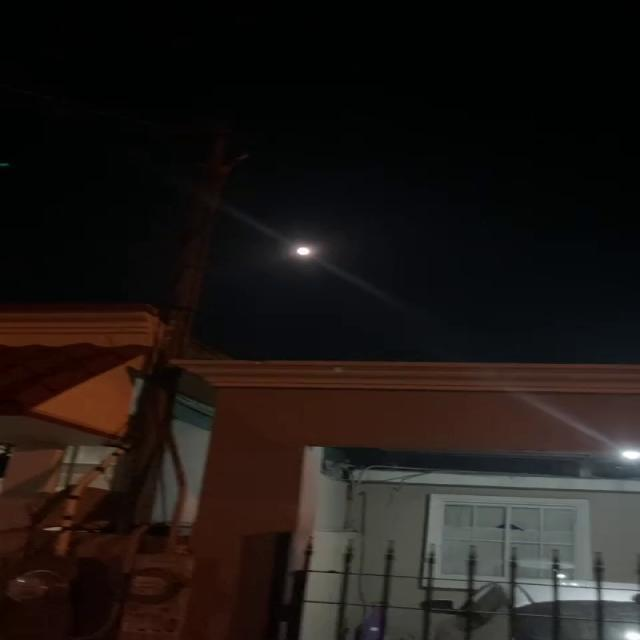moon: (289, 240, 322, 267)
